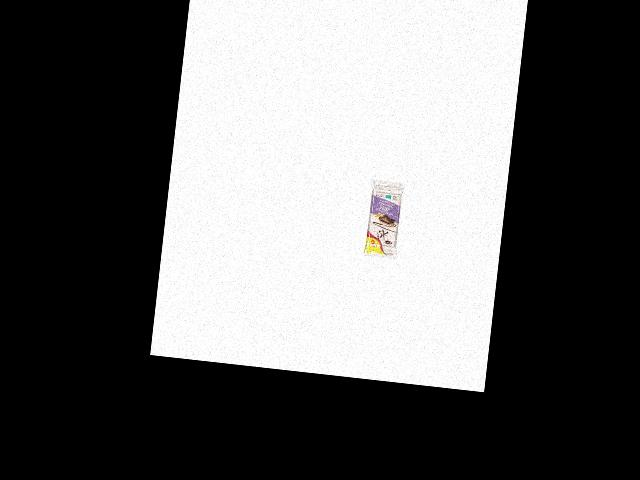chocolate: (360, 178, 408, 261)
